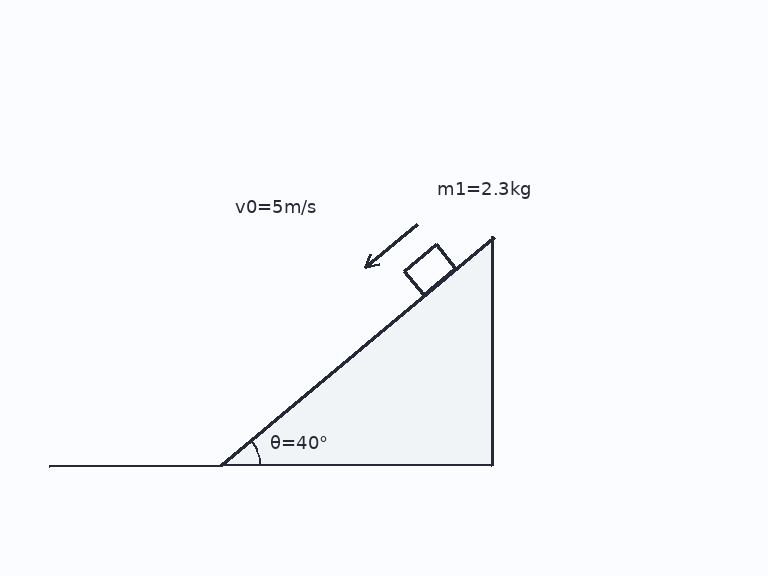block: (402, 242, 457, 297)
ramp: (218, 234, 495, 467)
